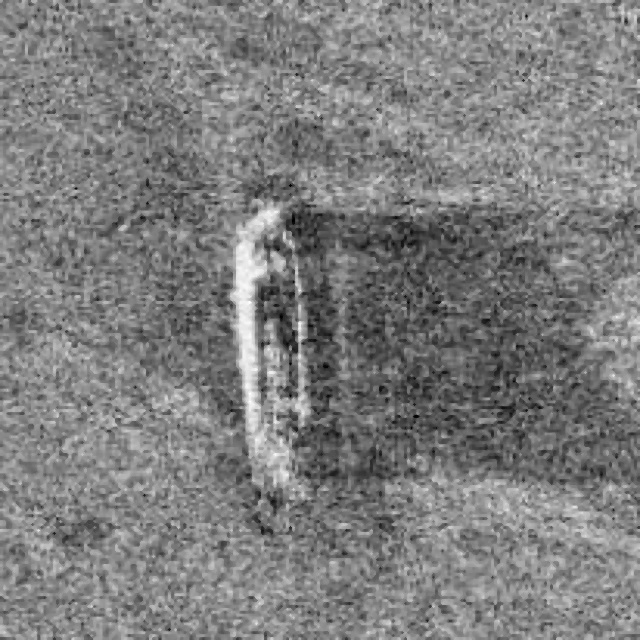Ship: (221, 186, 350, 540)
